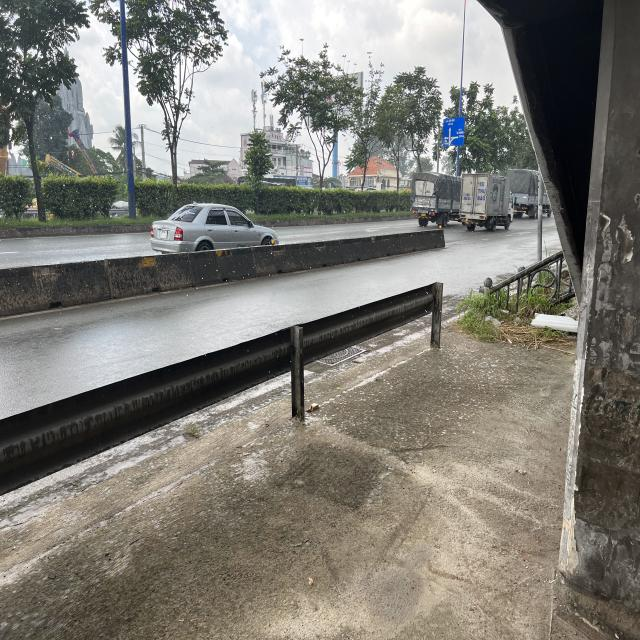car: (149, 204, 281, 253)
truck: (462, 173, 514, 235), (409, 176, 461, 226)
